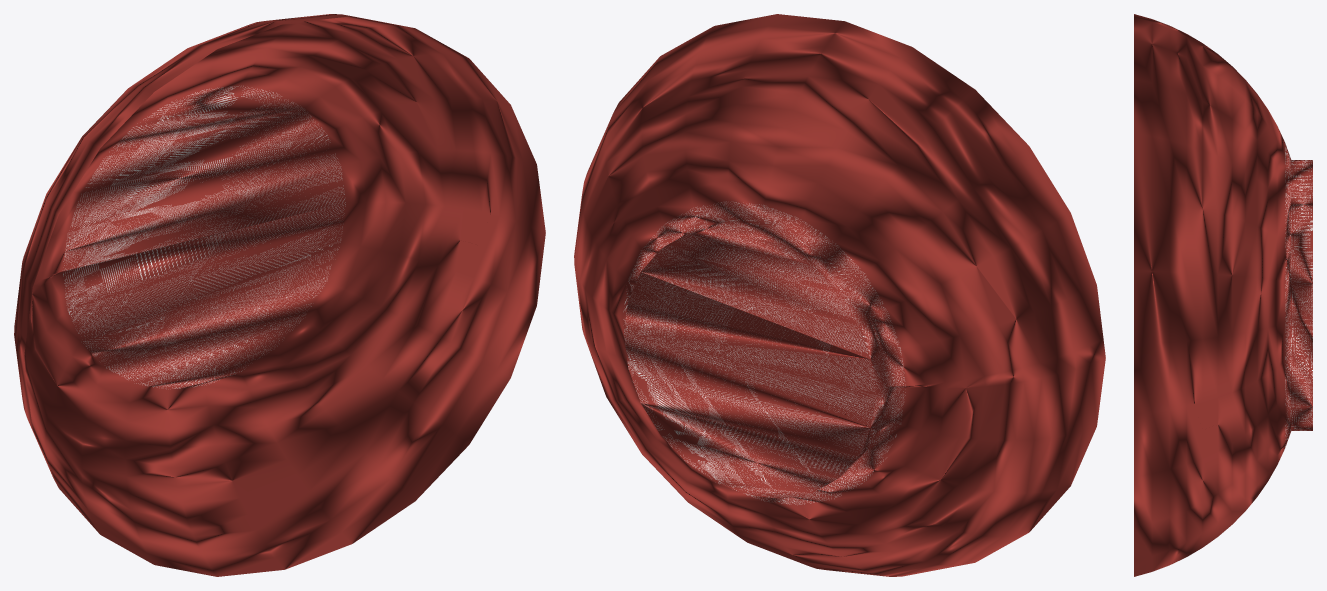
File: model_align.obj
3 renders of one model, left to right at view 1: azimuth 30°, elevation 25°; view 2: azimuth 150°, elevation 25°; view 3: azimuth 270°, elevation 25°, orthographic. The views are drawn at different scales.
Size of the model in its own units: 0.1425 by 0.1425 by 0.0451.
